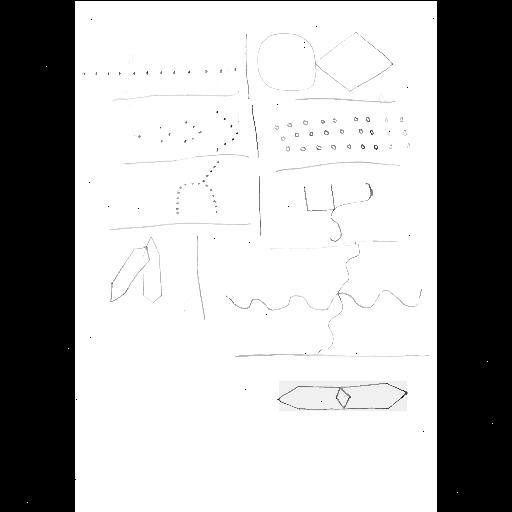shape-1: (256, 29, 392, 91)
shape-2: (82, 64, 236, 80)
shape-3: (274, 114, 412, 152)
shape-4: (138, 108, 238, 152)
shape-5: (303, 180, 373, 242)
shape-6: (176, 157, 220, 215)
shape-7: (226, 242, 422, 350)
shape-8: (112, 234, 160, 304)
shape-9: (279, 381, 407, 411)
